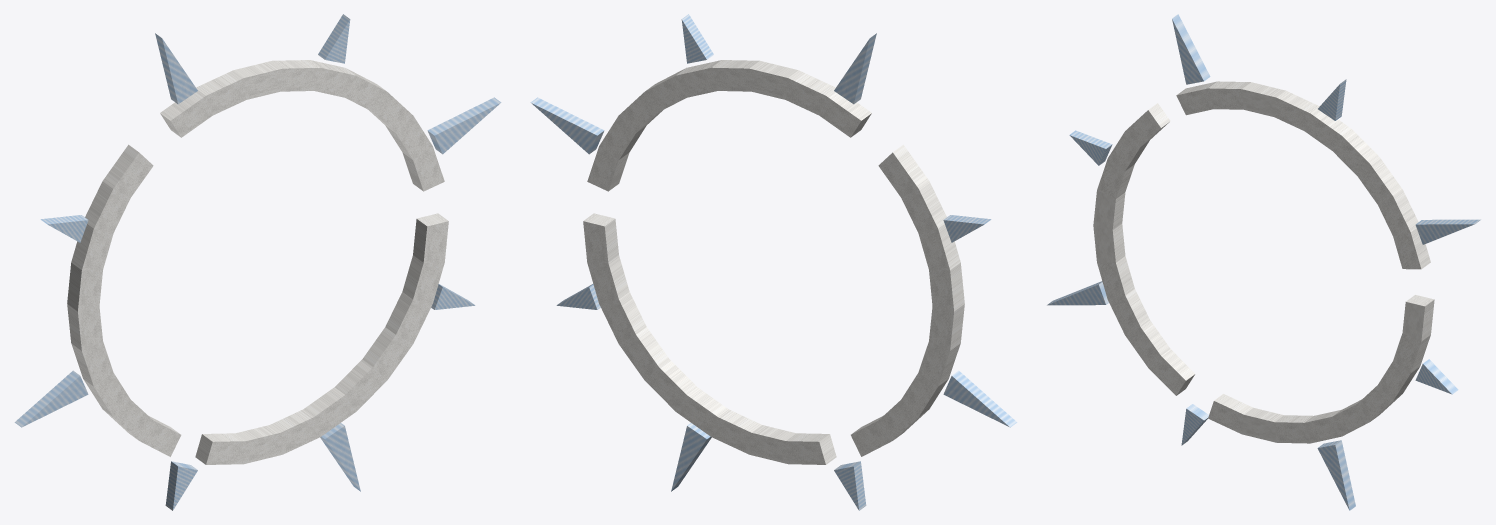
Rendered from seraph_halo.obj.
3 renders of one model, left to right at view 1: azimuth 30°, elevation 25°; view 2: azimuth 150°, elevation 25°; view 3: azimuth 330°, elevation 25°, orthographic. The views are drawn at different scales.
Parts seen in each view (by area): view 1: seraph_halo; view 2: seraph_halo; view 3: seraph_halo.
Boxes of the visible parts, x1,y1,x2,y2 form: seraph_halo: (14,14,501,510); seraph_halo: (530,14,1017,510); seraph_halo: (1047,14,1480,510).
Bounding box in the file's own units: 0.97 × 0.97 × 0.0375.
